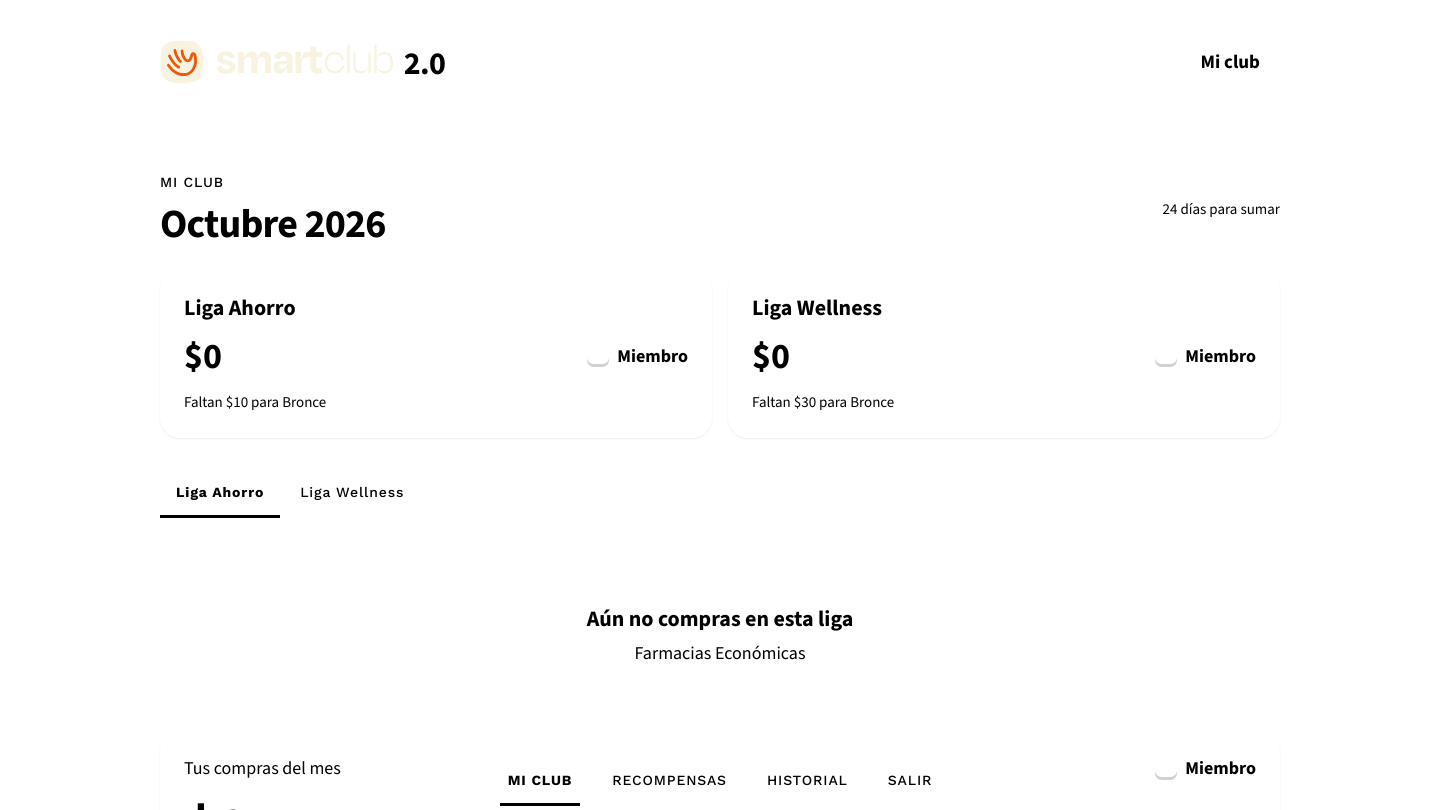
Test: SPEC-001 multi-liga and discount UI › breaks equal-total ties by display order and offers brands for an empty liga
Check: the heading "Aún no compras en esta liga" is shown, box [587,604,853,633]
Click the tab "Liga Wellness" at x=352, y=494, box [284,470,420,518]
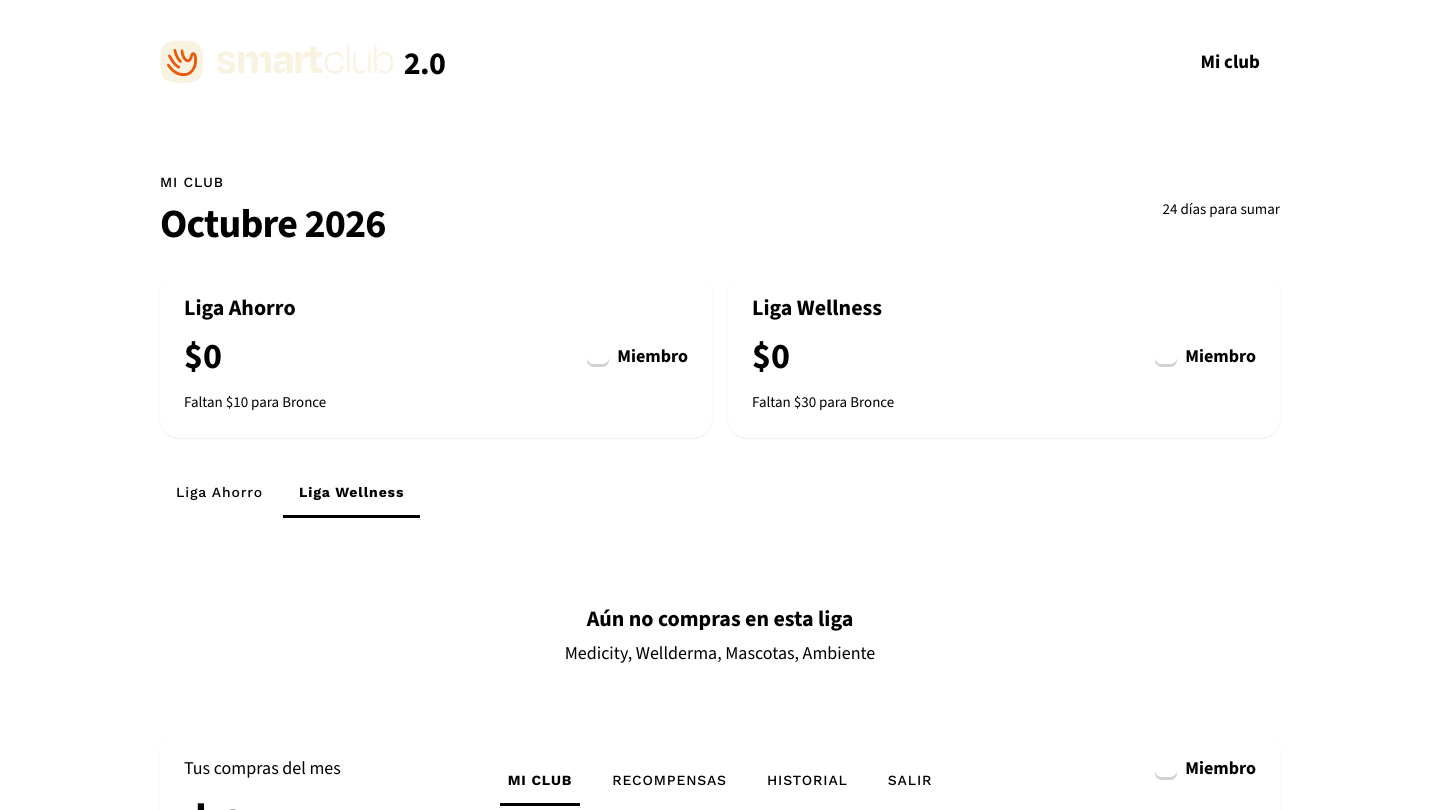
Check: the text "Medicity, Wellderma, Mascotas, Ambiente" is shown, box [565,641,875,665]
